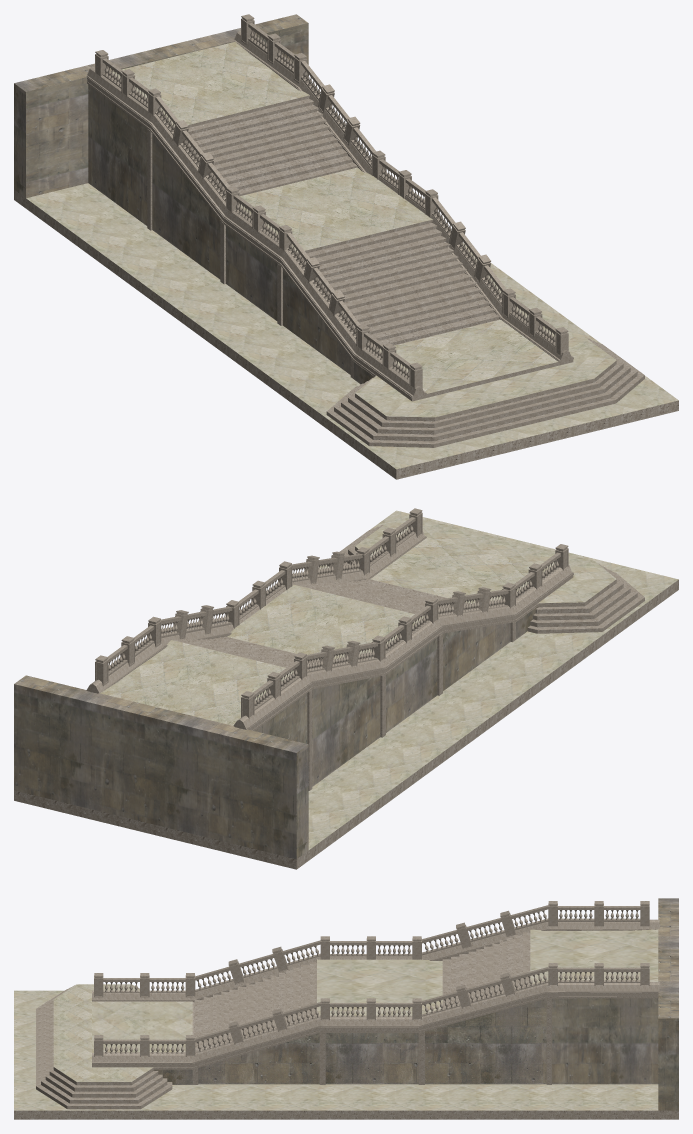
The model's file is fbxStair.fbx.
3 renders of one model, top to bottom at view 1: azimuth 30°, elevation 25°; view 2: azimuth 150°, elevation 25°; view 3: azimuth 270°, elevation 25°, orthographic. The views are drawn at different scales.
Visible parts, largest first — view 1: floor, A3, pCube1335, pCube1339, fence33, fence38; view 2: floor, pCube1335, A3, pCube1339, fence33, fence38; view 3: pCube1335, floor, A3, pCube1339, fence38, fence33.
Boxes of the visible parts, x1,y1,x2,y2 form: floor: [14, 14, 678, 479]; A3: [111, 41, 501, 349]; pCube1335: [86, 30, 573, 401]; pCube1339: [326, 336, 644, 447]; fence33: [241, 14, 568, 356]; fence38: [95, 50, 422, 389]; floor: [14, 510, 678, 869]; pCube1335: [86, 531, 573, 790]; A3: [100, 578, 473, 725]; pCube1339: [328, 522, 644, 633]; fence33: [95, 508, 422, 686]; fence38: [241, 544, 568, 718]; pCube1335: [92, 919, 659, 1084]; floor: [14, 898, 678, 1119]; A3: [194, 929, 658, 1051]; pCube1339: [36, 984, 172, 1109]; fence38: [94, 901, 649, 997]; fence33: [94, 963, 649, 1056].
Bounding box in the file's own units: 5.38 × 2.69 × 12.6.
3 materials, 3 textured.
